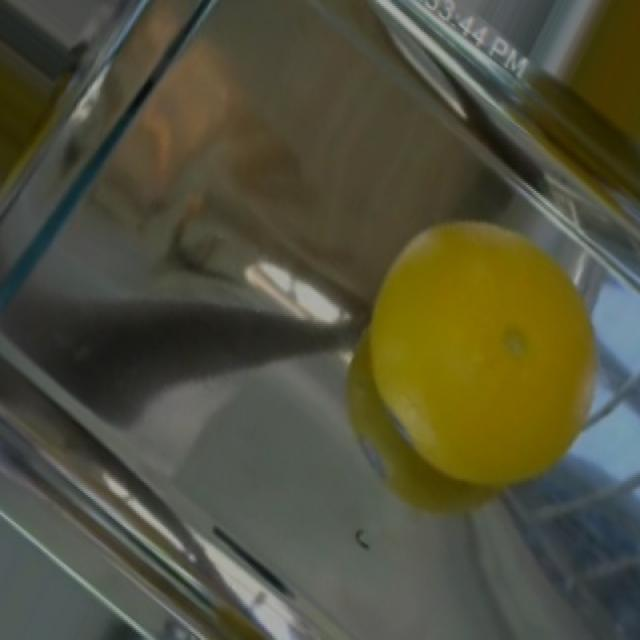Fruit: (331, 195, 617, 523), (538, 0, 640, 181)
